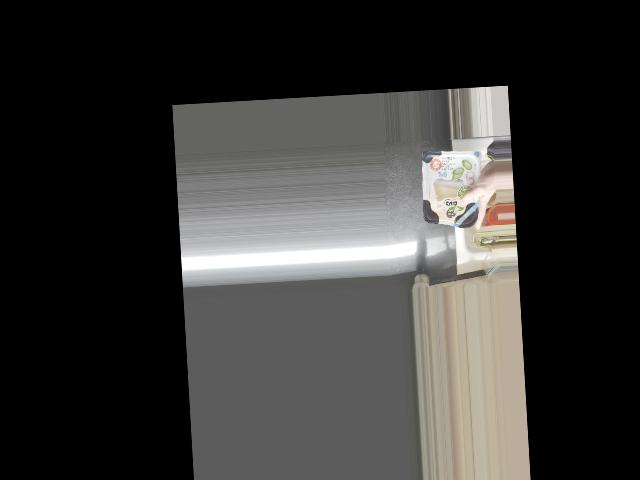cheese: (420, 151, 484, 230)
